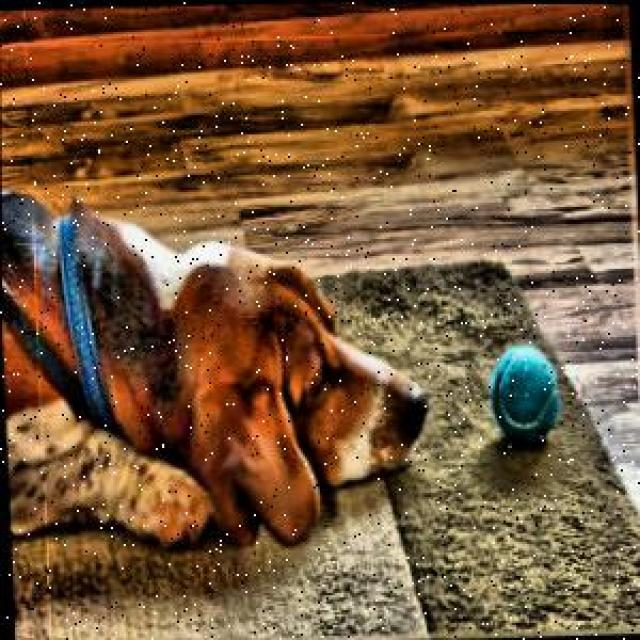tennis-ball: (485, 341, 562, 450)
